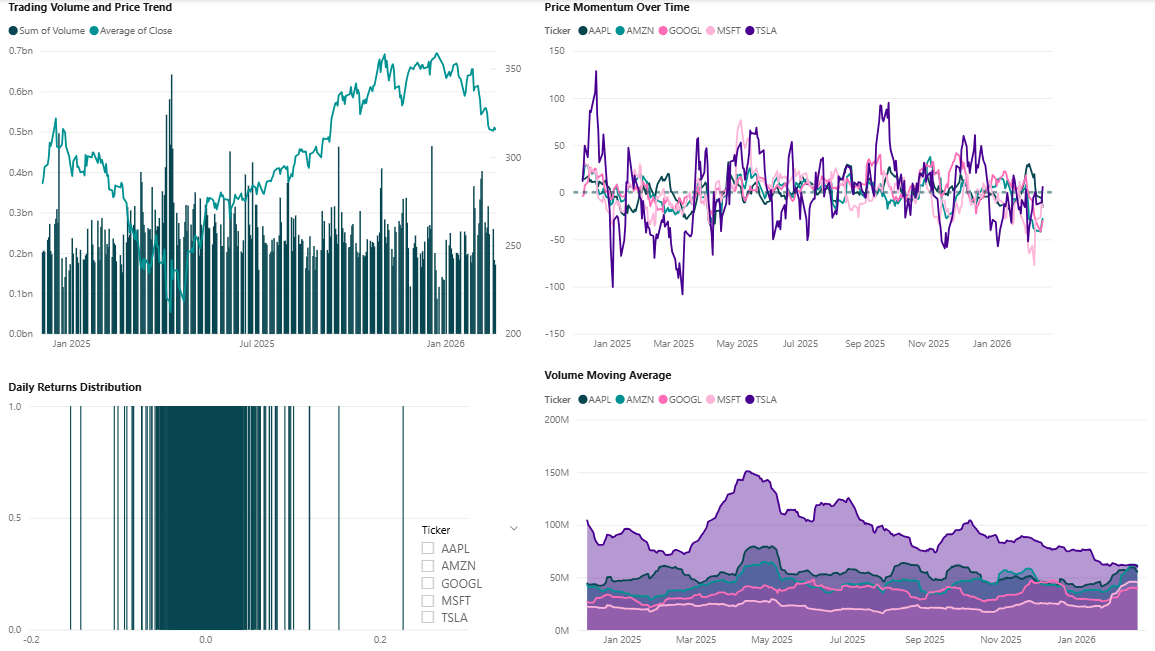

The page's visual inventory and layout, read from the dashboard file:
{"tool":"powerbi","page":{"name":"Technical Analysis","canvas":[1280,720],"ordinal":1},"visuals":[{"type":"lineClusteredColumnComboChart","title":"Trading Volume and Price Trend","fields":{"Y":["Sum(all_stocks_combined.Volume)"],"Category":["all_stocks_combined.Date"],"Y2":["Avg(all_stocks_combined.Close)"]},"box":[9.6,0,577.7,395.2],"z":0},{"type":"clusteredColumnChart","title":"Daily Returns Distribution","fields":{"Category":["all_stocks_combined.Daily_Return"],"Y":["Count(all_stocks_combined.Daily_Return)"]},"box":[9.6,417.2,521.4,303.3],"z":1000},{"type":"lineChart","title":"Price Momentum Over Time","fields":{"Category":["all_stocks_combined.Date"],"Y":["Avg(all_stocks_combined.Momentum)"],"Series":["all_stocks_combined.Ticker"]},"box":[598,0,578,395],"z":2000},{"type":"areaChart","title":"Volume Moving Average","fields":{"Category":["all_stocks_combined.Date"],"Y":["Avg(all_stocks_combined.Volume_MA)"],"Series":["all_stocks_combined.Ticker"]},"box":[598.3,404.8,682,315.6],"z":3000},{"type":"slicer","fields":{"Values":["all_stocks_combined.Ticker"]},"box":[455.6,569.5,131.7,124.9],"z":4000}]}

Visuals, with their boxes in screenshot pixels (x1, y1, x2, y2), scaled from the page's 1280x720 canvas onto the 1155x651 screenshot:
"Trading Volume and Price Trend" lineClusteredColumnComboChart: [9,0,530,357]
"Daily Returns Distribution" clusteredColumnChart: [9,377,479,650]
"Price Momentum Over Time" lineChart: [540,0,1061,357]
"Volume Moving Average" areaChart: [540,366,1154,650]
slicer - all_stocks_combined.Ticker: [411,515,530,628]
